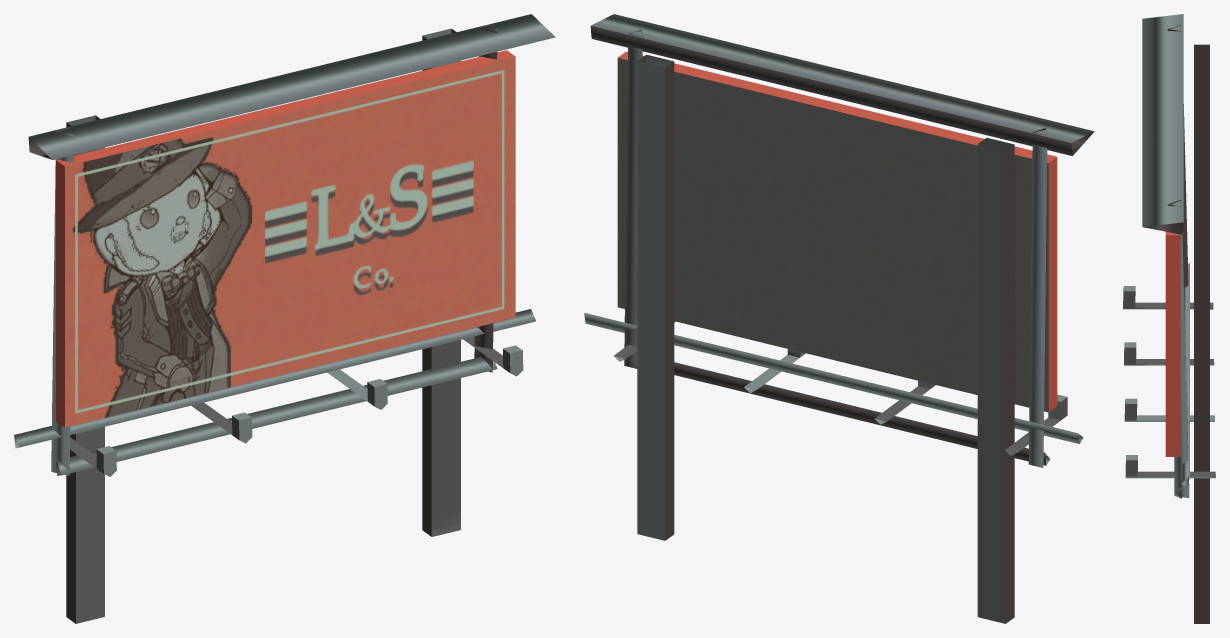
Rendered from adboard 1.FBX.
The picture shows the model from 3 angles, left to right: view 1: azimuth 30°, elevation 25°; view 2: azimuth 150°, elevation 25°; view 3: azimuth 270°, elevation 25°; orthographic projection. The views are drawn at different scales.
Visible parts, largest first — view 1: Adboardscreen, Adboard; view 2: Adboardscreen, Adboard; view 3: Adboard, Adboardscreen.
Boxes of the visible parts, x1=… form: Adboardscreen: x1=56, y1=50, x2=515, y2=427; Adboard: x1=14, y1=14, x2=555, y2=623; Adboardscreen: x1=617, y1=51, x2=1057, y2=412; Adboard: x1=584, y1=14, x2=1094, y2=623; Adboard: x1=1123, y1=14, x2=1215, y2=623; Adboardscreen: x1=1165, y1=231, x2=1180, y2=456.
Bounding box in the file's own units: 28.18 × 26.32 × 5.16.
